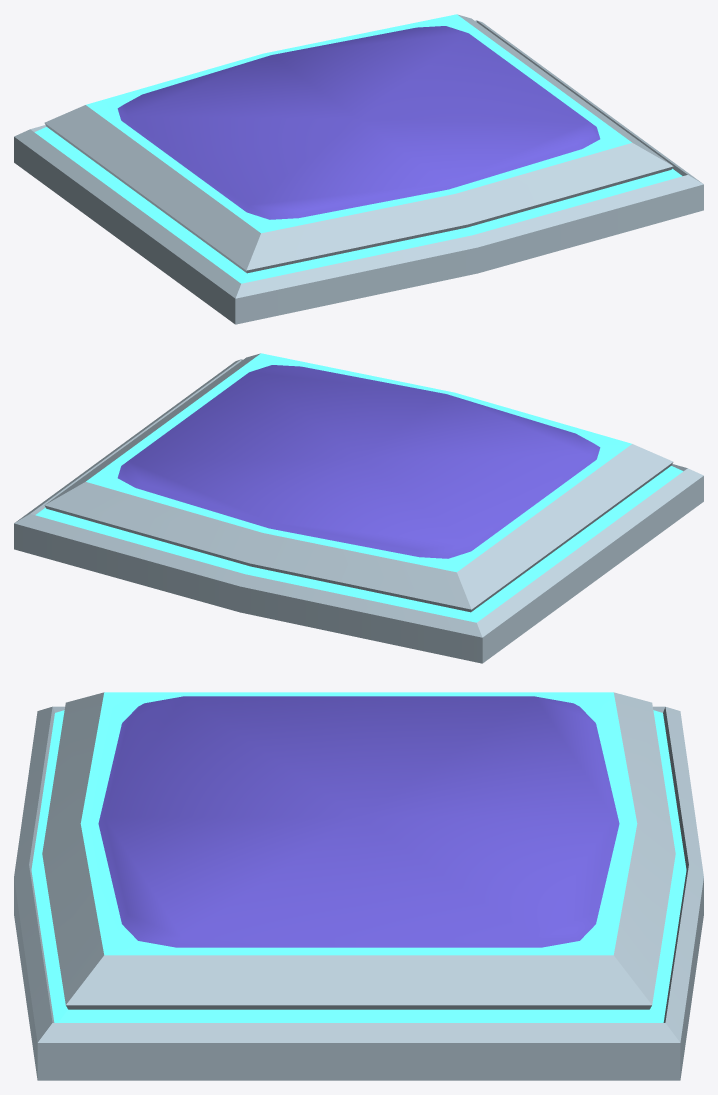
The model's file is BuildPad.fbx.
3 renders of one model, top to bottom at view 1: azimuth 30°, elevation 25°; view 2: azimuth 150°, elevation 25°; view 3: azimuth 270°, elevation 25°, orthographic. The views are drawn at different scales.
Parts seen in each view (by area): view 1: Cube; view 2: Cube; view 3: Cube.
Boxes of the visible parts, box(x1,y1,x2,y2) form: Cube: box(14, 14, 703, 324); Cube: box(14, 353, 703, 663); Cube: box(14, 692, 703, 1080).
Bounding box in the file's own units: 687 × 94.25 × 604.
